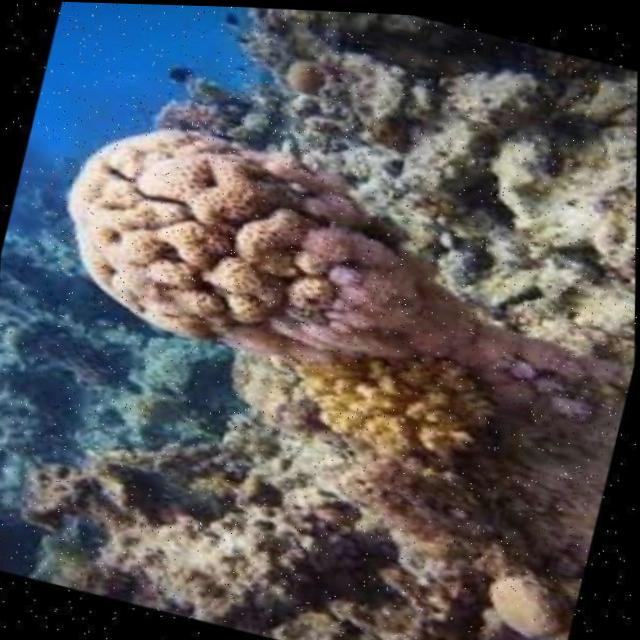Healthy Coral: (2, 60, 567, 547)
